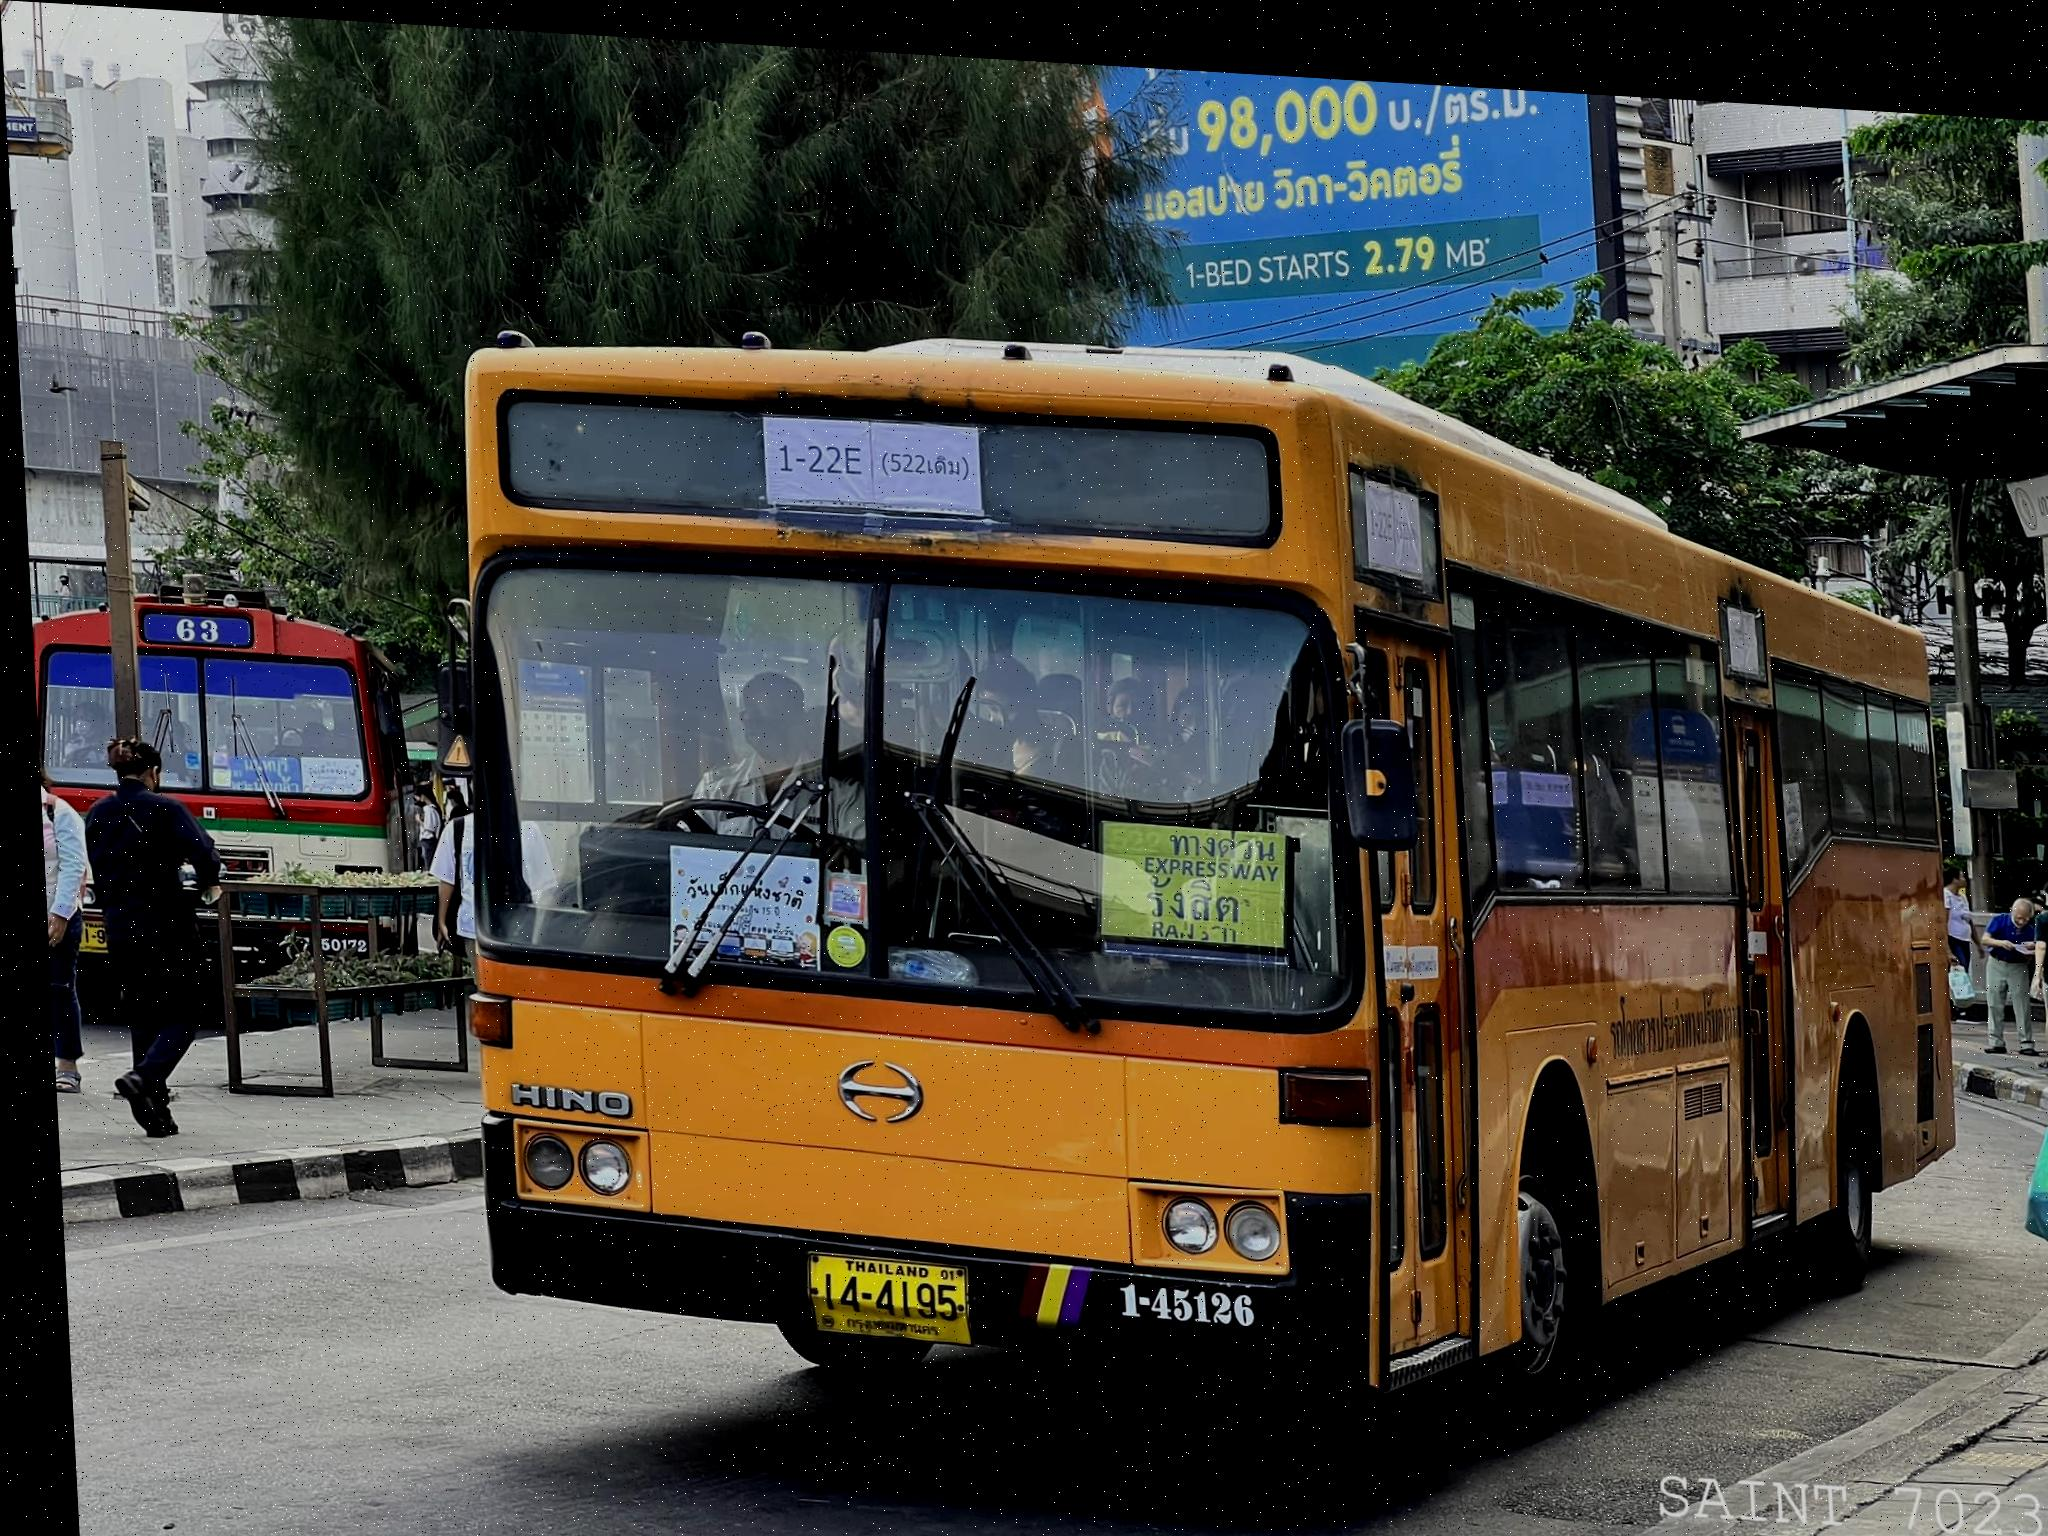BMTA-bus: (445, 331, 1950, 1426), (26, 587, 432, 997)
Bus Line Number: (750, 402, 992, 526)
Bus Side Number: (1089, 1254, 1253, 1320)
Destination Sign: (1082, 802, 1297, 945)
